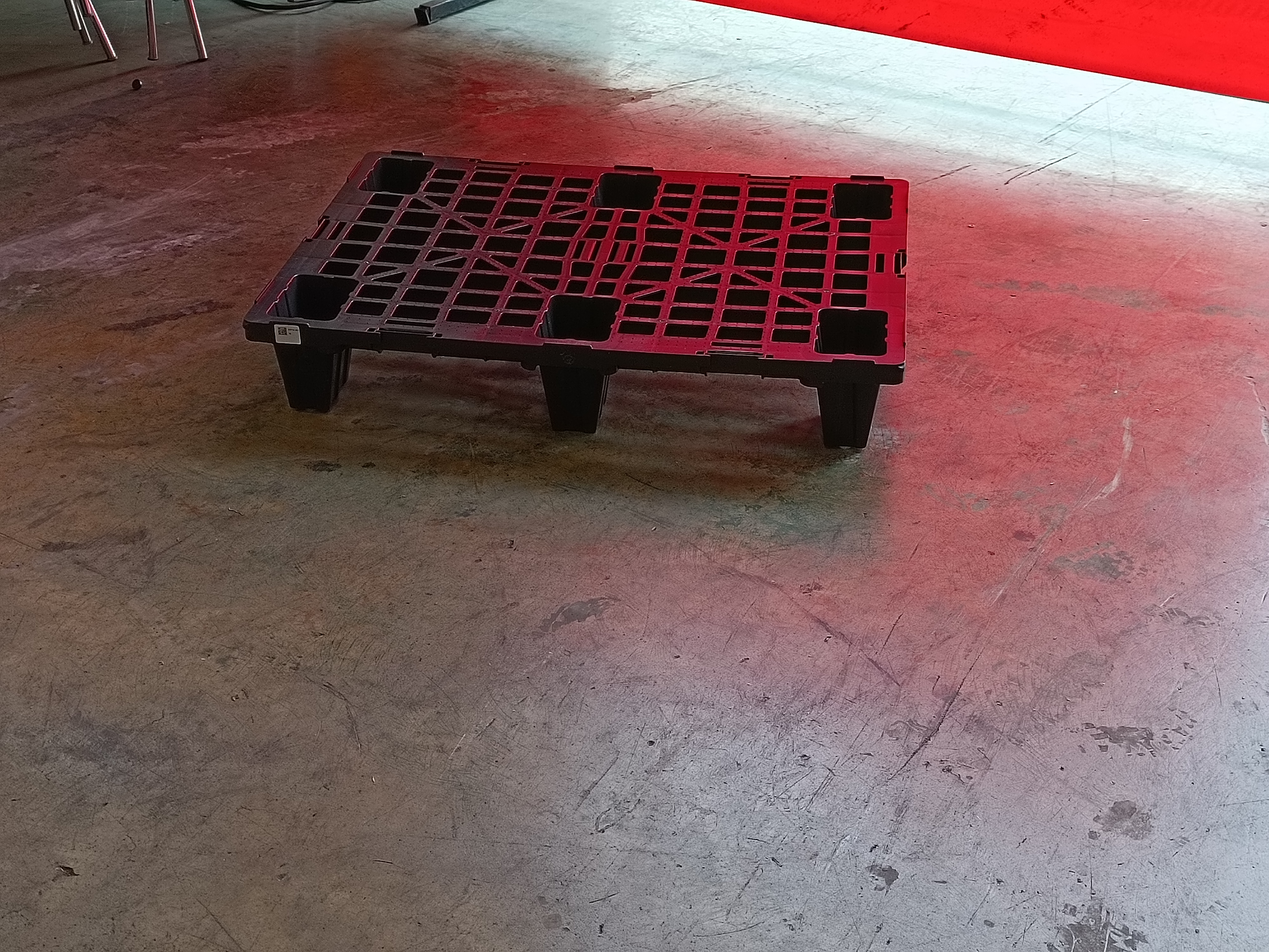block: (533, 359, 614, 443), (807, 368, 878, 457), (270, 335, 344, 415)
front: (241, 325, 902, 468)
hole pallet: (595, 368, 831, 449), (331, 351, 553, 431)
